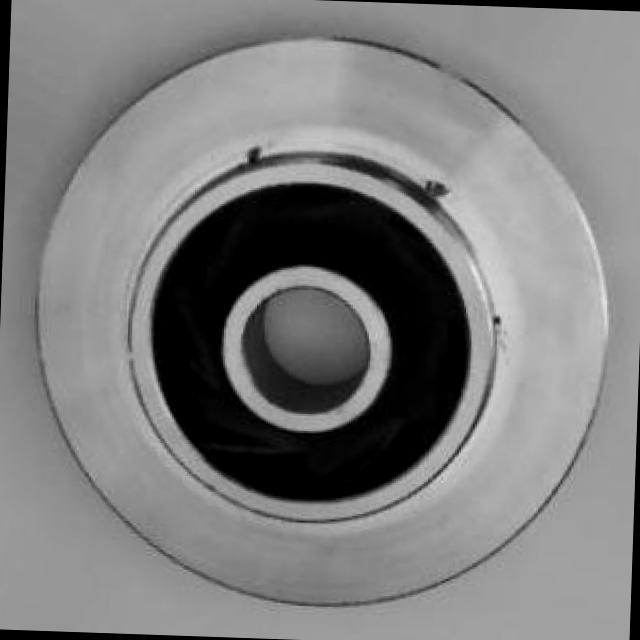Defect: (417, 171, 456, 206)
